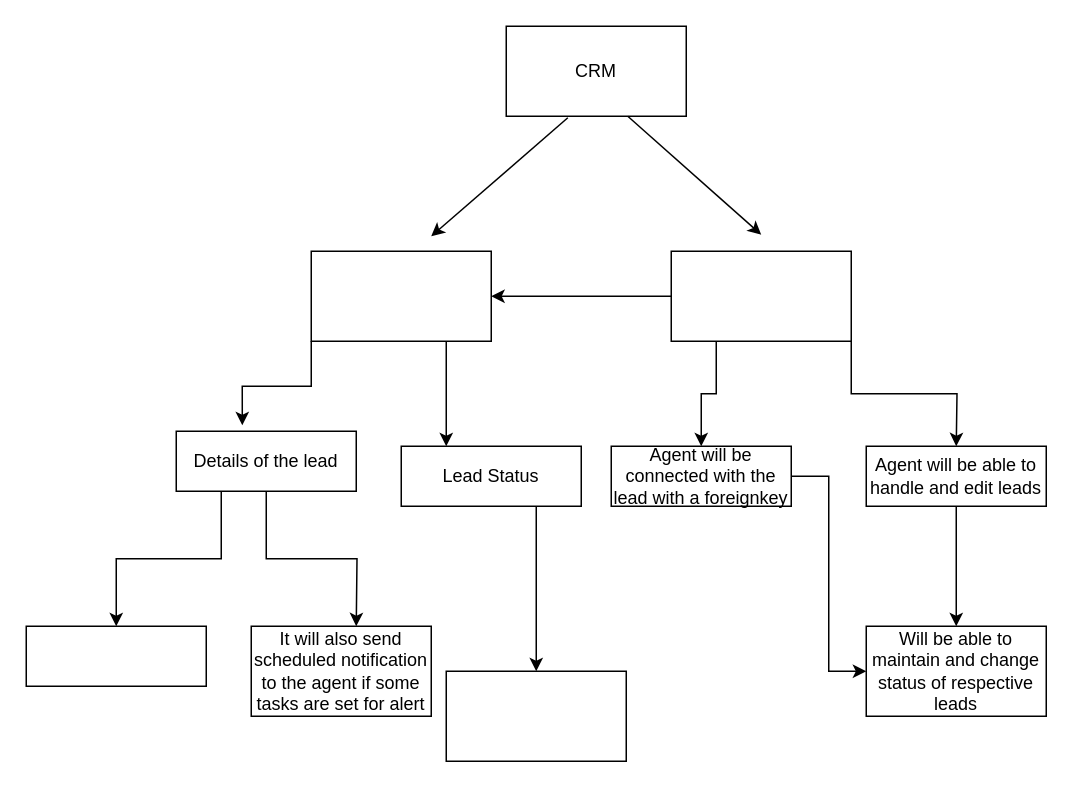
Image size: 1073x788. Some labels were removed from this diagram. Each missing label, with the centre of its shape:
"Agent" goes at point (760, 295).
"Lead" goes at point (400, 295).
"This will contain all the tasks and key conversation points" goes at point (115, 655).
"This will maintain the status of the Lead to get a better understanding" goes at point (535, 715).
